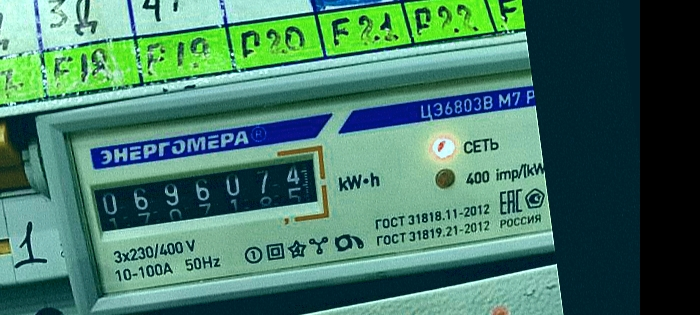0: (97, 189, 119, 217), (222, 170, 241, 198)
4: (283, 161, 302, 187)
5: (286, 185, 303, 205)
6: (129, 183, 152, 212), (191, 176, 211, 202)
7: (251, 167, 272, 195)
9: (159, 180, 181, 207)
screen: (76, 139, 336, 253)
